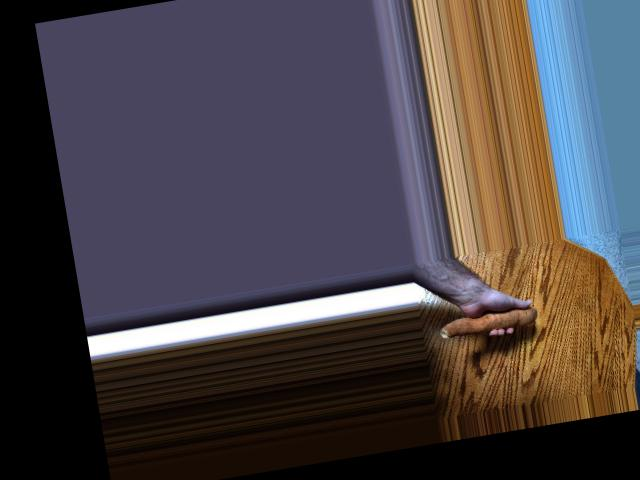sweet_potato: (435, 294, 540, 340)
